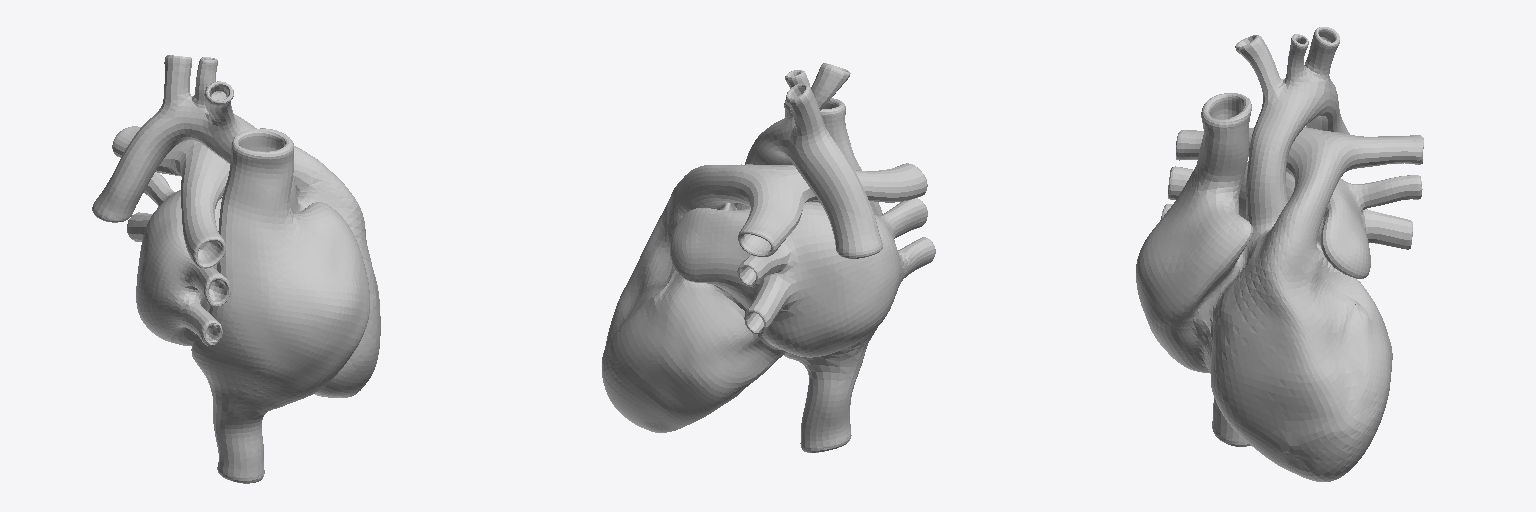
The picture shows the model from 3 angles: view 1: azimuth 30°, elevation 25°; view 2: azimuth 150°, elevation 25°; view 3: azimuth 270°, elevation 25°; orthographic projection.
Visible parts, largest first — view 1: HEART_PRO; view 2: HEART_PRO; view 3: HEART_PRO.
Part boxes in pixels (x1,y1,x2,y2): HEART_PRO: (92,55,380,483); HEART_PRO: (602,63,935,452); HEART_PRO: (1136,27,1423,481).
Bounding box in the file's own units: 592 × 835 × 544.